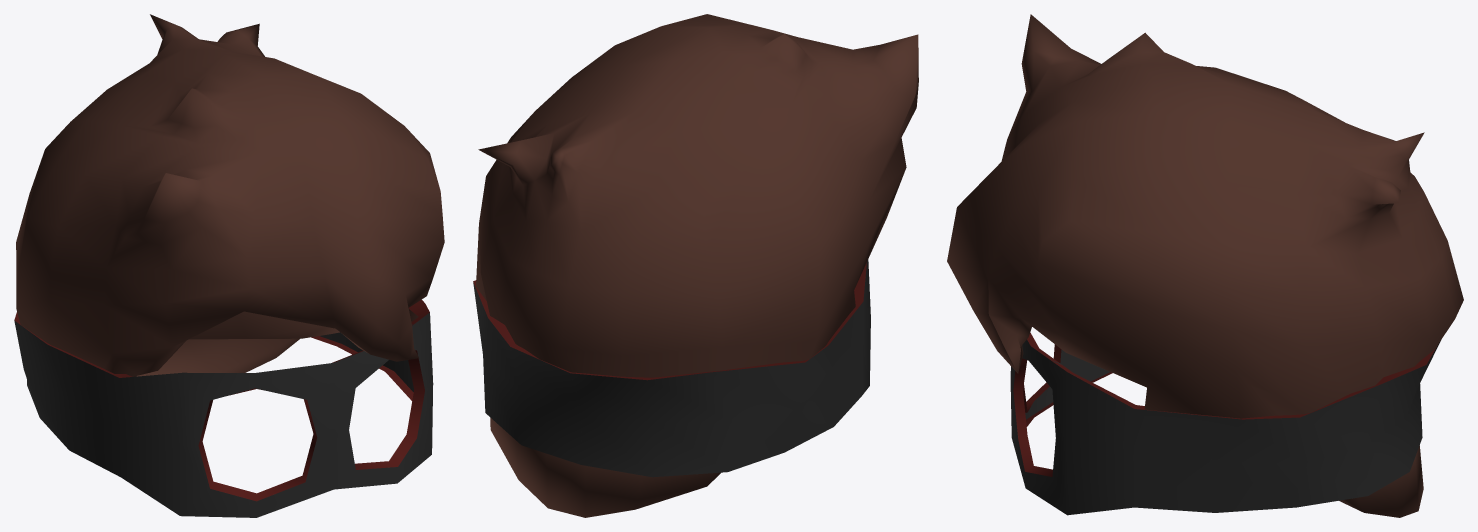
File: Robber_Mask_GEO.fbx
3 views of the same model, side by side, from view 1: azimuth 30°, elevation 25°; view 2: azimuth 150°, elevation 25°; view 3: azimuth 270°, elevation 25° (orthographic). The views are drawn at different scales.
Parts seen in each view (by area): view 1: Mask_GEO; view 2: Mask_GEO; view 3: Mask_GEO.
Part boxes in pixels (<box>): Mask_GEO: <box>14,14,444,517</box>; Mask_GEO: <box>473,14,918,517</box>; Mask_GEO: <box>947,14,1463,517</box>.
Bounding box in the file's own units: 180 × 205 × 226.
